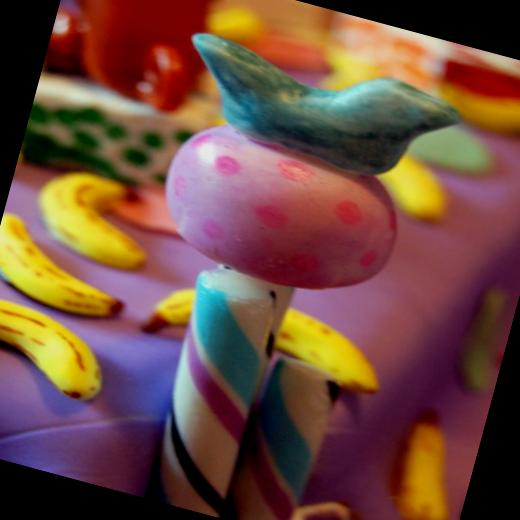Banana: (137, 274, 394, 400), (0, 211, 145, 326), (22, 164, 167, 276), (0, 294, 118, 406), (384, 403, 478, 520), (367, 144, 460, 232), (427, 67, 520, 147)
